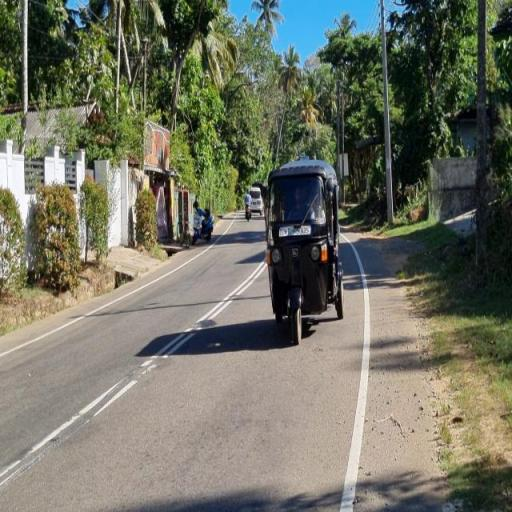double_white_line: (2, 258, 267, 488)
